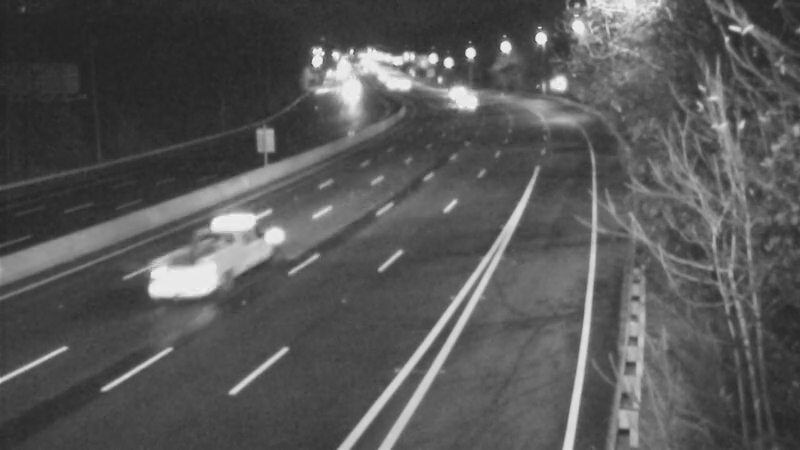vehicle: (161, 230, 241, 310), (367, 58, 417, 108), (438, 71, 488, 121), (447, 76, 497, 126), (324, 68, 374, 118)
